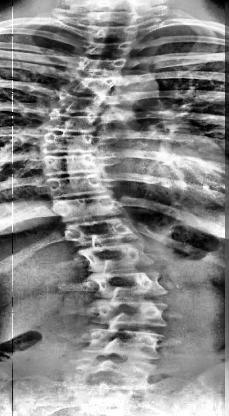Vertebrae: (81, 326, 166, 362), (73, 240, 157, 274), (82, 268, 170, 300), (84, 299, 172, 331), (58, 216, 138, 249), (50, 193, 124, 225), (42, 169, 108, 201), (46, 90, 110, 118), (37, 108, 105, 134), (60, 68, 126, 94), (36, 131, 102, 155), (40, 152, 104, 176), (74, 53, 132, 77), (87, 20, 141, 44), (79, 38, 137, 58), (86, 7, 144, 26)
